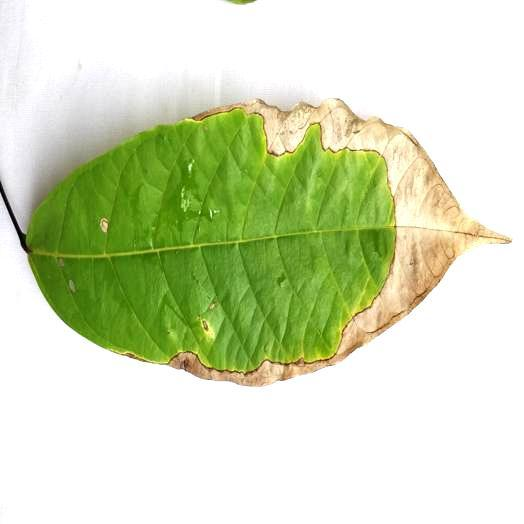Potassium: (28, 100, 508, 384)
